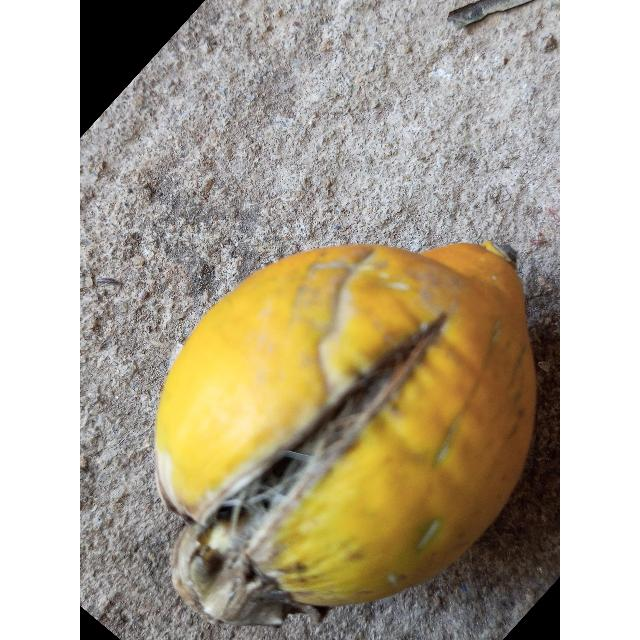damaged: (156, 242, 536, 625)
